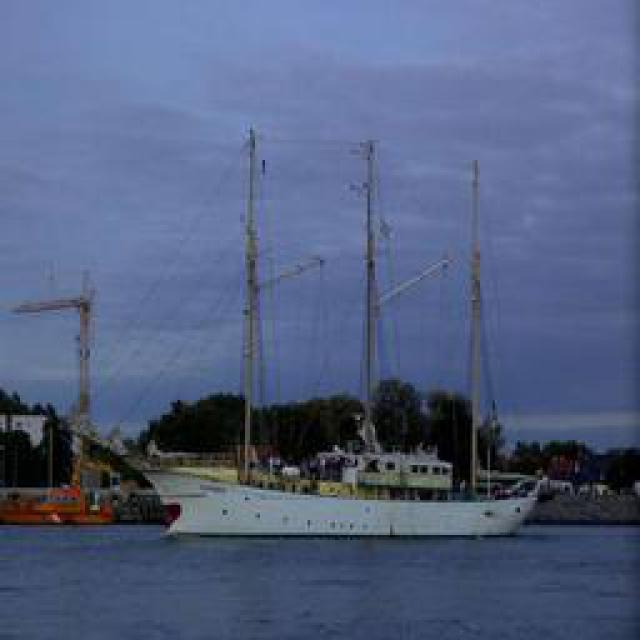Ship: (64, 125, 560, 542)
